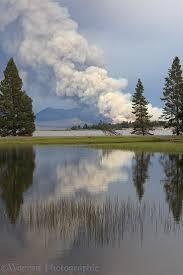yanwu: (1, 1, 165, 125)
